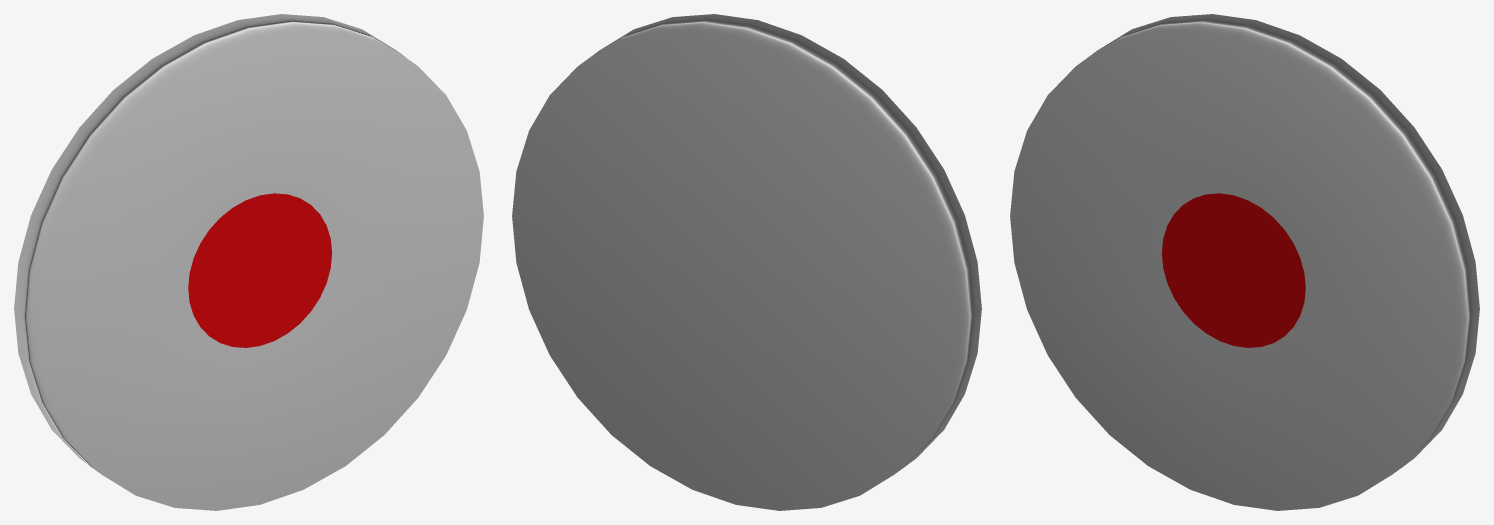
The model's file is shooting_circle.fbx.
The picture shows the model from 3 angles, left to right: view 1: azimuth 30°, elevation 25°; view 2: azimuth 150°, elevation 25°; view 3: azimuth 330°, elevation 25°; orthographic projection.
Visible parts, largest first — view 1: Cylinder; view 2: Cylinder; view 3: Cylinder.
Boxes of the visible parts, left/top/right/bottom form: Cylinder: left=14, top=14, right=483, bottom=510; Cylinder: left=512, top=14, right=981, bottom=510; Cylinder: left=1010, top=14, right=1479, bottom=510.
Bounding box in the file's own units: 177 × 177 × 15.31.
